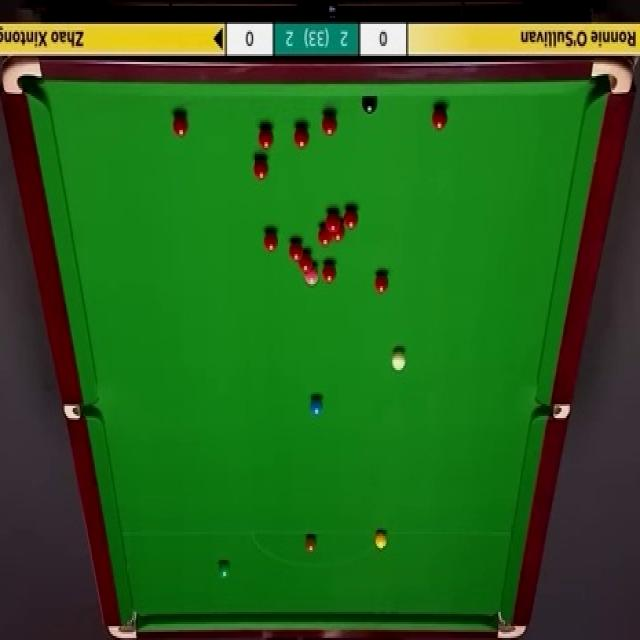black-ball: (358, 96, 376, 115)
blue-ball: (310, 398, 324, 415)
brown-ball: (304, 530, 317, 552)
green-ball: (218, 565, 230, 581)
pink-ball: (304, 266, 318, 286)
red-ball: (316, 221, 333, 247), (253, 154, 269, 181), (320, 112, 338, 136), (294, 124, 309, 152), (432, 107, 449, 131), (343, 206, 360, 230), (174, 115, 190, 138), (375, 270, 388, 294), (326, 210, 340, 232), (258, 127, 272, 149), (290, 238, 303, 260), (331, 222, 345, 241), (299, 254, 313, 273), (264, 232, 278, 250), (324, 264, 337, 283)
white-ball: (393, 352, 407, 371)
yellow-ball: (375, 530, 387, 550)
